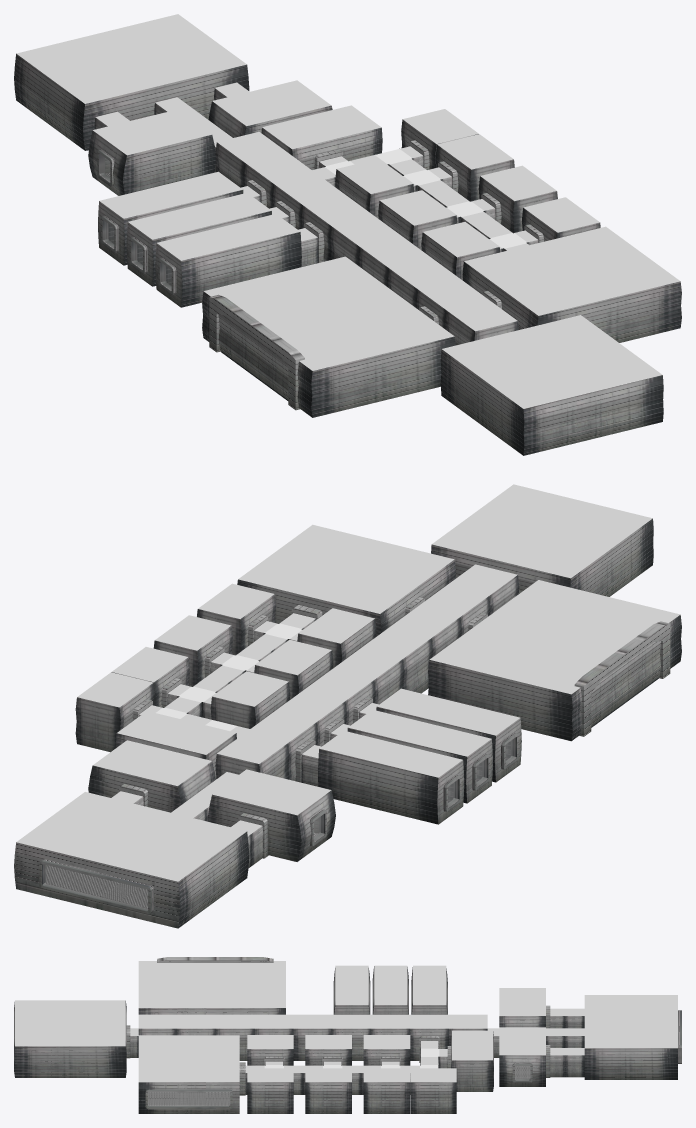
File: v2_Complete_Ship.fbx
3 renders of one model, top to bottom at view 1: azimuth 30°, elevation 25°; view 2: azimuth 150°, elevation 25°; view 3: azimuth 270°, elevation 25°, orthographic. The views are drawn at different scales.
Parts seen in each view (by area): view 1: Whole Ship; view 2: Whole Ship; view 3: Whole Ship.
Boxes of the visible parts, x1,y1,x2,y2 form: Whole Ship: (14,14,681,455); Whole Ship: (14,484,681,928); Whole Ship: (14,957,681,1113).
Size of the model in its own units: 3767 by 515 by 8610.
